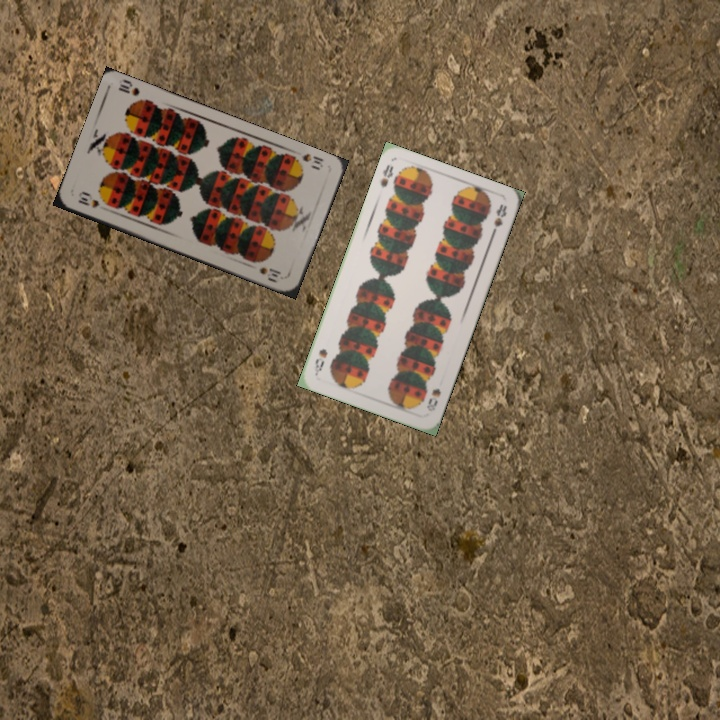S10: (298, 149, 326, 173), (74, 193, 102, 210)
S8: (423, 384, 444, 414), (376, 161, 396, 191)
